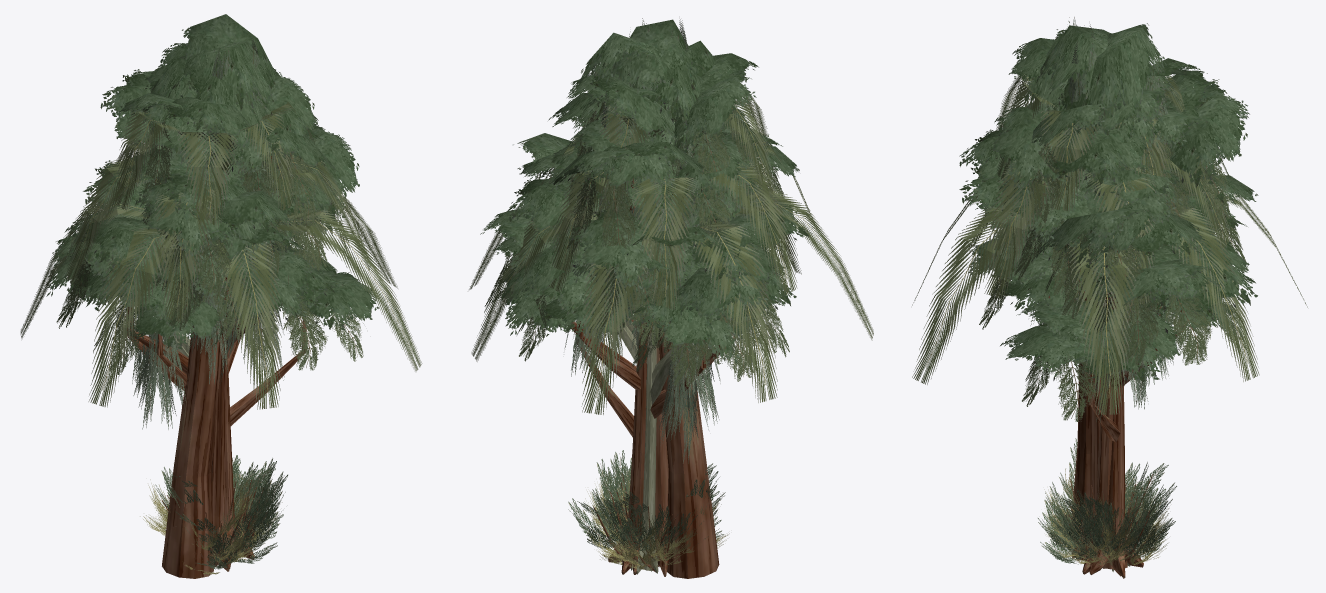
The model's file is ap_vegetacion.glb.
3 renders of one model, left to right at view 1: azimuth 30°, elevation 25°; view 2: azimuth 150°, elevation 25°; view 3: azimuth 270°, elevation 25°, orthographic. The views are drawn at different scales.
Parts seen in each view (by area): view 1: pino_3__malla, palmera_1__malla, pino_2__malla, pino_1__malla, eucalipto_2__malla, adelfa_1__malla, eucalipto_1__malla, adelfa_2__malla, mata_seca_3__malla, mata_seca_4__malla, mata_seca_1__malla; view 2: pino_3__malla, palmera_1__malla, pino_2__malla, pino_1__malla, eucalipto_2__malla, adelfa_2__malla, adelfa_1__malla, eucalipto_1__malla, mata_seca_4__malla, mata_seca_2__malla, mata_seca_3__malla; view 3: pino_3__malla, palmera_1__malla, pino_2__malla, pino_1__malla, adelfa_1__malla, adelfa_2__malla, mata_seca_2__malla, eucalipto_1__malla, mata_seca_4__malla, mata_seca_3__malla, eucalipto_2__malla.
Part boxes in pixels (box(x1,y1,x2,y2)): pino_3__malla: box(52, 14, 359, 571); palmera_1__malla: box(20, 102, 422, 578); pino_2__malla: box(46, 144, 338, 568); pino_1__malla: box(79, 181, 379, 425); eucalipto_2__malla: box(129, 47, 284, 429); adelfa_1__malla: box(161, 457, 287, 567); eucalipto_1__malla: box(137, 39, 268, 429); adelfa_2__malla: box(155, 455, 283, 569); mata_seca_3__malla: box(140, 474, 282, 566); mata_seca_4__malla: box(157, 469, 270, 552); mata_seca_1__malla: box(160, 507, 275, 577); pino_3__malla: box(506, 19, 811, 576); palmera_1__malla: box(469, 72, 873, 578); pino_2__malla: box(480, 97, 797, 574); pino_1__malla: box(492, 177, 791, 574); eucalipto_2__malla: box(571, 19, 709, 574); adelfa_2__malla: box(592, 450, 725, 550); adelfa_1__malla: box(568, 455, 723, 555); eucalipto_1__malla: box(564, 18, 720, 571); mata_seca_4__malla: box(591, 470, 707, 564); mata_seca_2__malla: box(584, 478, 703, 565); mata_seca_3__malla: box(605, 478, 721, 565); pino_3__malla: box(959, 23, 1249, 558); palmera_1__malla: box(912, 74, 1307, 528); pino_2__malla: box(959, 105, 1258, 576); pino_1__malla: box(968, 170, 1255, 578); adelfa_1__malla: box(1038, 443, 1175, 568); adelfa_2__malla: box(1040, 438, 1176, 564); mata_seca_2__malla: box(1045, 485, 1169, 565); eucalipto_1__malla: box(1030, 29, 1175, 571); mata_seca_4__malla: box(1046, 479, 1165, 560); mata_seca_3__malla: box(1044, 467, 1168, 559); eucalipto_2__malla: box(1029, 17, 1173, 536).
Bounding box in the file's own units: 5.6 × 8 × 5.46.
1 material, 1 textured.
